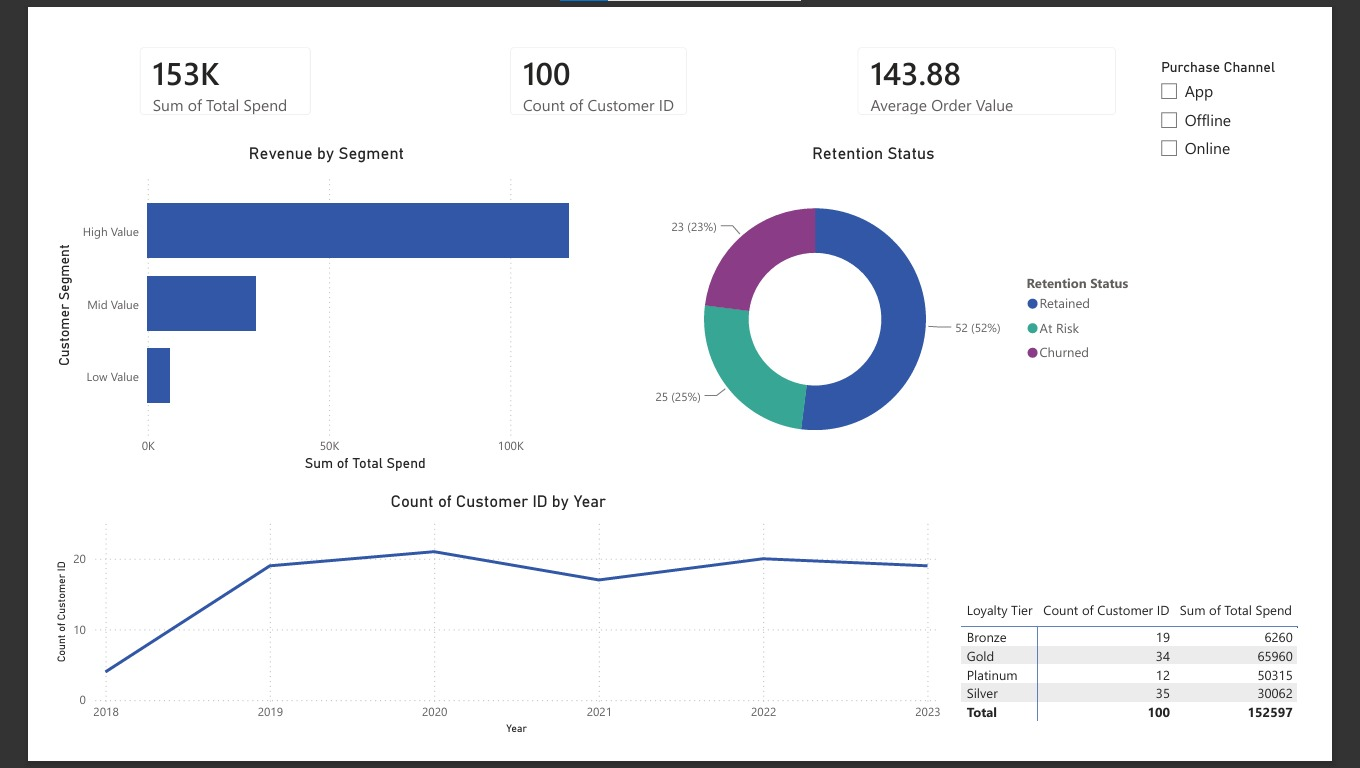

The page's visual inventory and layout, read from the dashboard file:
{"tool":"powerbi","page":{"name":"Page 1","canvas":[1280,720],"ordinal":0},"visuals":[{"type":"cardVisual","fields":{"Data":["Sum(Customer_Data.Total Spend)"]},"box":[72.8,0,208.3,103.3],"z":0},{"type":"clusteredBarChart","title":"Revenue by Segment","fields":{"Category":["Customer_Data.Customer Segment"],"Y":["Sum(Customer_Data.Total Spend)"]},"box":[0,115.1,560.4,338.6],"z":1},{"type":"donutChart","title":"Retention Status","fields":{"Category":["Customer_Data.Retention Status"],"Y":["CountNonNull(Customer_Data.Customer ID)"]},"box":[557,115.1,560.4,338.6],"z":2},{"type":"lineChart","fields":{"Category":["Customer_Data.Join Date.Variation.Date Hierarchy.Year","Customer_Data.Join Date.Variation.Date Hierarchy.Quarter","Customer_Data.Join Date.Variation.Date Hierarchy.Month","Customer_Data.Join Date.Variation.Date Hierarchy.Day"],"Y":["CountNonNull(Customer_Data.Customer ID)"]},"box":[0,468.9,910.1,251.8],"z":3},{"type":"slicer","fields":{"Values":["Customer_Data.Purchase Channel"]},"box":[1117.5,23.7,162.5,387.7],"z":4},{"type":"pivotTable","fields":{"Rows":["Customer_Data.Loyalty Tier"],"Values":["Count(Customer_Data.Customer ID)","Sum(Customer_Data.Total Spend)"]},"box":[922.2,574.9,357.8,145.9],"z":5},{"type":"cardVisual","fields":{"Data":["Count(Customer_Data.Customer ID)"]},"box":[450.4,0,213.3,103.3],"z":6},{"type":"cardVisual","fields":{"Data":["Avg(Customer_Data.Average Order Value)"]},"box":[804.2,0,296.3,103.3],"z":7}]}

Visuals, with their boxes in screenshot pixels (x1, y1, x2, y2), scaled from the page's 1280x720 canvas onto the 1360x768 screenshot:
cardVisual - Sum(Customer_Data.Total Spend): box=[77, 0, 299, 110]
"Revenue by Segment" clusteredBarChart: box=[0, 123, 595, 484]
"Retention Status" donutChart: box=[592, 123, 1187, 484]
lineChart - Customer_Data.Join Date.Variation.Date Hierarchy.Year x Customer_Data.Join Date.Variation.Date Hierarchy.Quarter: box=[0, 500, 967, 767]
slicer - Customer_Data.Purchase Channel: box=[1187, 25, 1359, 439]
pivotTable - Customer_Data.Loyalty Tier x Count(Customer_Data.Customer ID): box=[980, 613, 1359, 767]
cardVisual - Count(Customer_Data.Customer ID): box=[479, 0, 705, 110]
cardVisual - Avg(Customer_Data.Average Order Value): box=[854, 0, 1169, 110]
